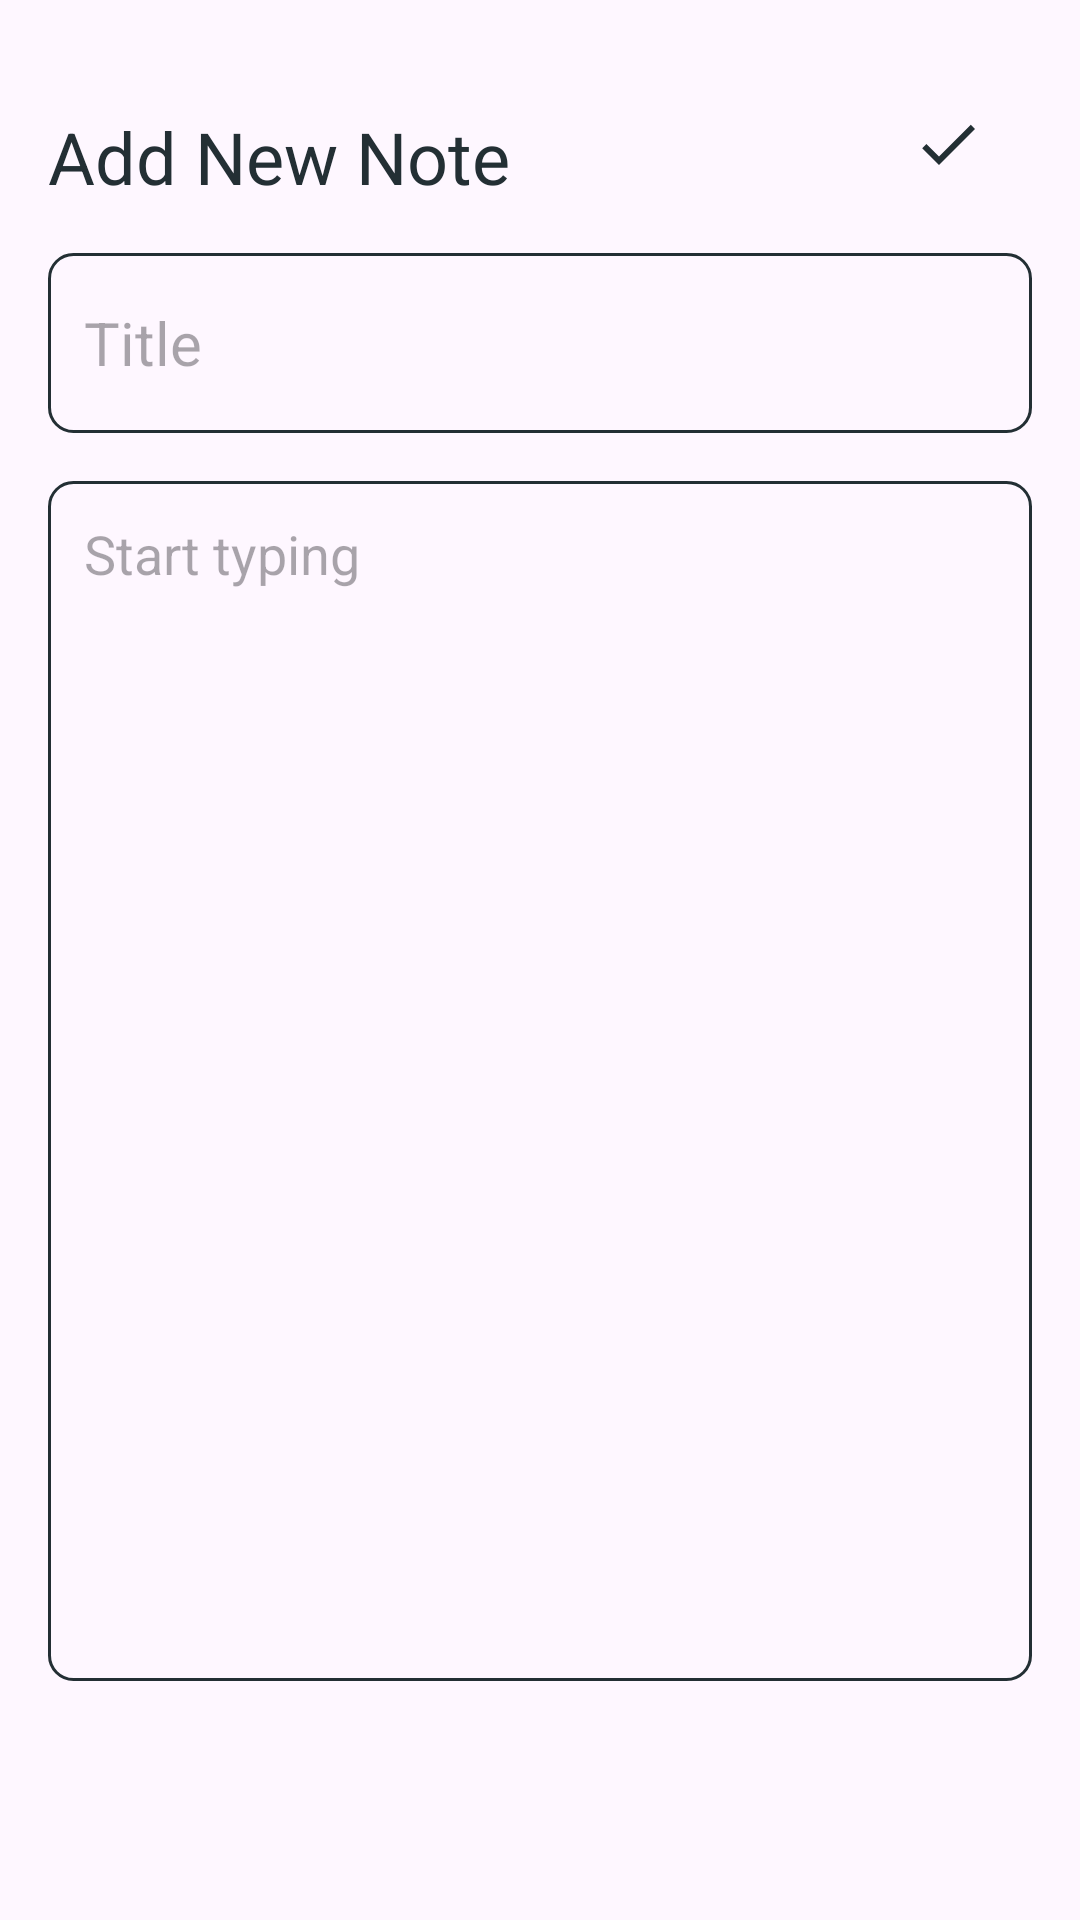

Icons on this 1080px×1920px Android screen, each with the point to tap as [x,y]:
done: [948,145]
